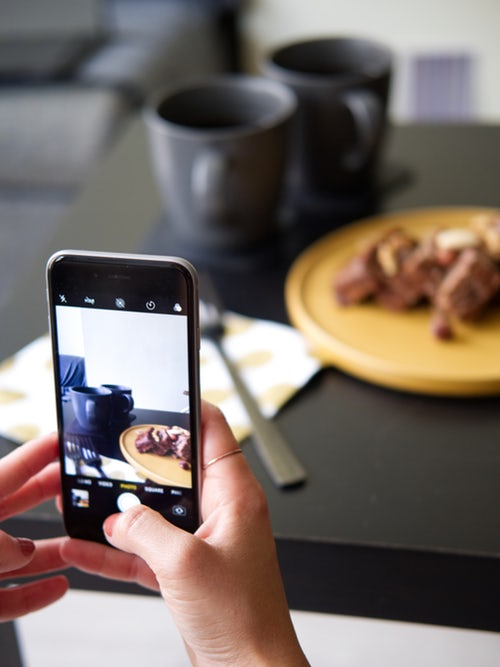phone: (43, 244, 210, 567)
